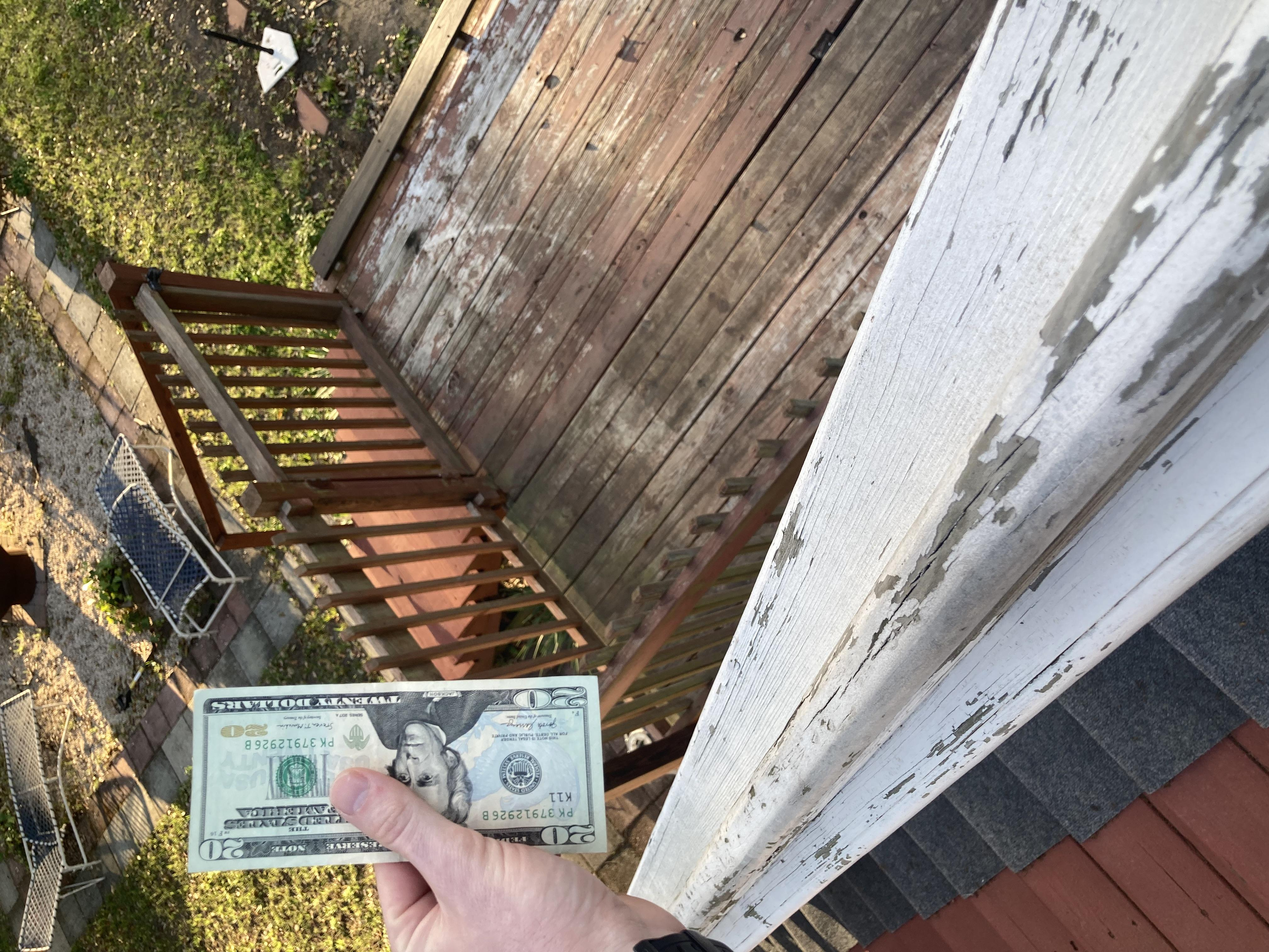twenty-front: (103, 142, 368, 455)
